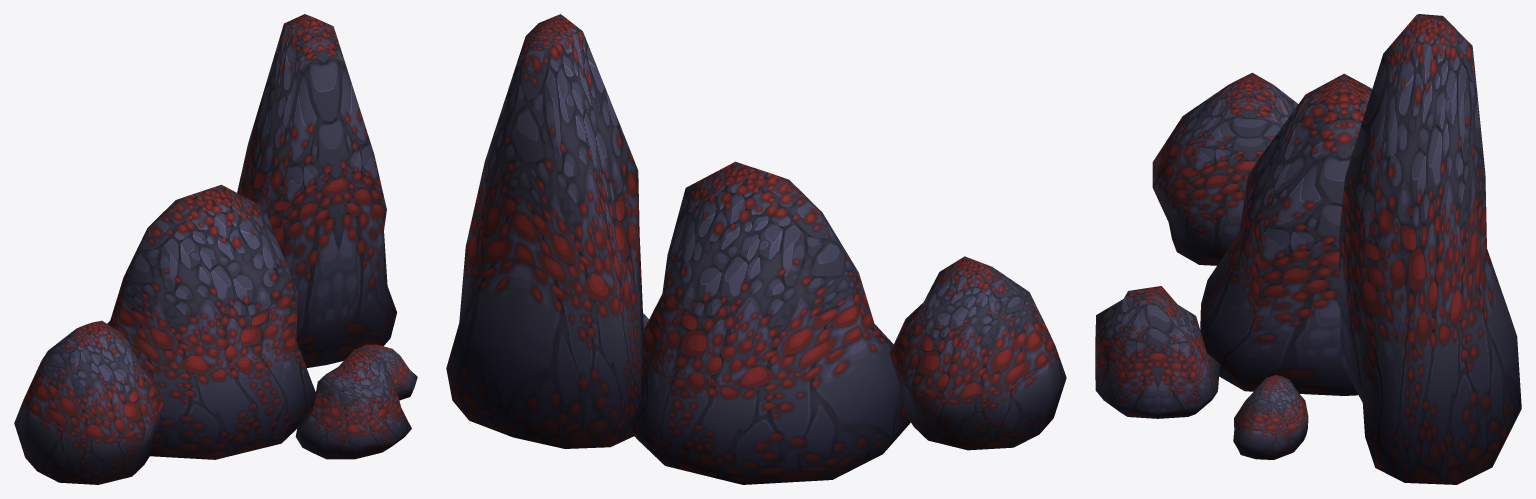
The model's file is Rock_03_Group2.FBX.
3 views of the same model, side by side, from view 1: azimuth 30°, elevation 25°; view 2: azimuth 150°, elevation 25°; view 3: azimuth 270°, elevation 25° (orthographic). The views are drawn at different scales.
Parts seen in each view (by area): view 1: Rock_03_Group2; view 2: Rock_03_Group2; view 3: Rock_03_Group2.
Boxes of the visible parts, x1=… form: Rock_03_Group2: x1=14, y1=14, x2=417, y2=484; Rock_03_Group2: x1=446, y1=14, x2=1066, y2=484; Rock_03_Group2: x1=1095, y1=14, x2=1521, y2=484.
Size of the model in its own units: 609 by 453 by 413.
